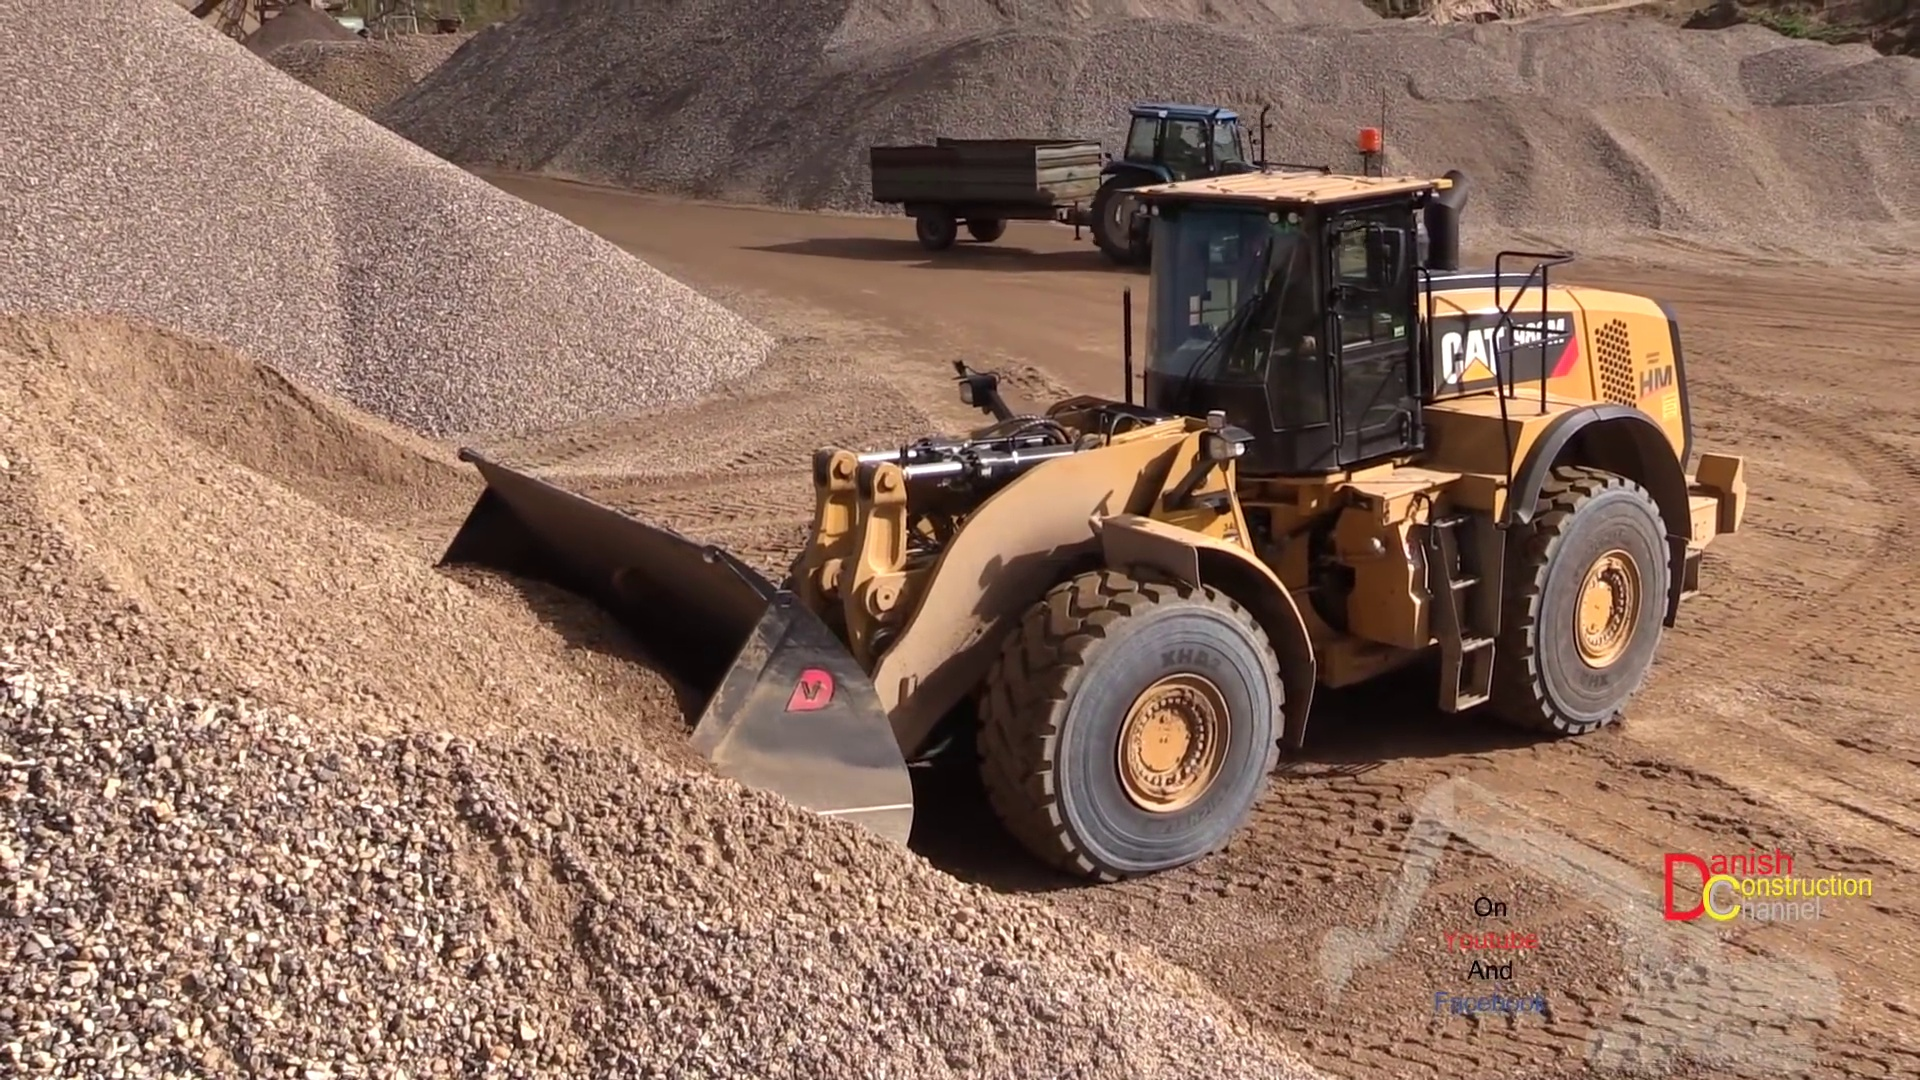truck: (870, 103, 1255, 256)
wheel loader: (338, 165, 1750, 881)
